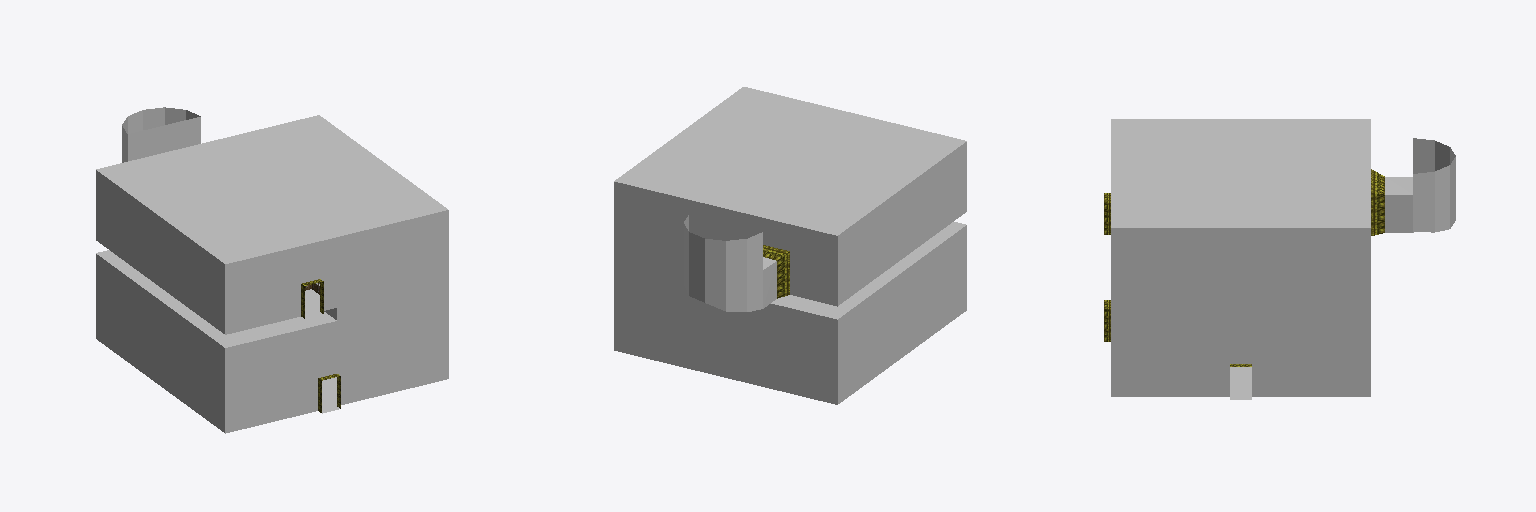
3 views of the same model, side by side, from view 1: azimuth 30°, elevation 25°; view 2: azimuth 150°, elevation 25°; view 3: azimuth 270°, elevation 25° (orthographic).
Parts seen in each view (by area): view 1: Floor2#Room2; view 2: Floor2#Room2; view 3: Floor2#Room2, Floor2#Room2#Snow.
Part boxes in pixels (x1,y1,x2,y2): Floor2#Room2: (96, 107, 448, 433); Floor2#Room2: (614, 87, 966, 404); Floor2#Room2: (1104, 119, 1455, 396); Floor2#Room2#Snow: (1230, 367, 1251, 399).
Bounding box in the file's own units: 731 × 534 × 969.
Materials: 7 (2 with a texture image).